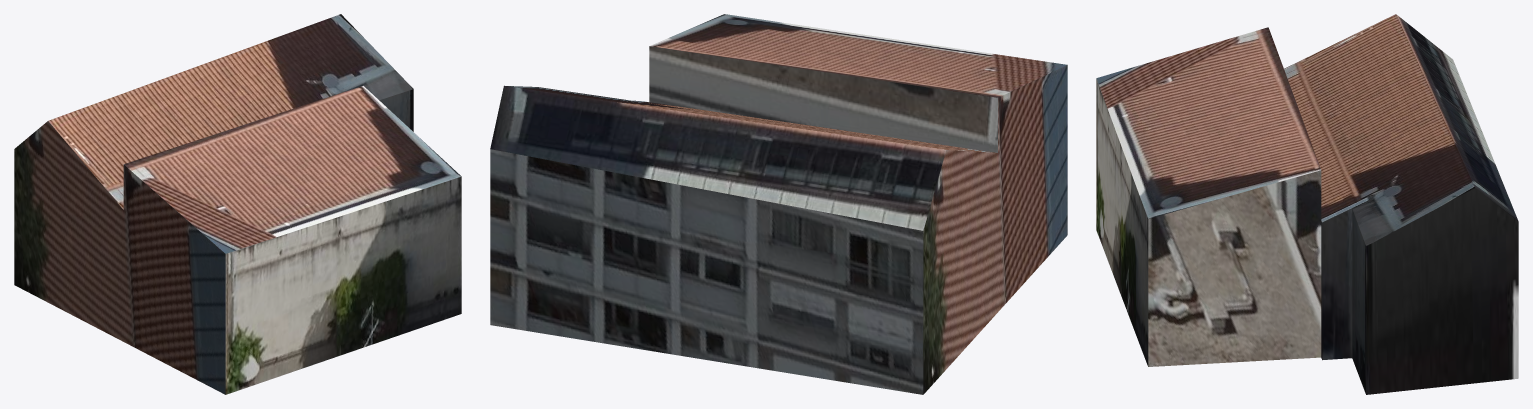
3 views of the same model, side by side, from view 1: azimuth 30°, elevation 25°; view 2: azimuth 150°, elevation 25°; view 3: azimuth 270°, elevation 25° (orthographic). The views are drawn at different scales.
Visible parts, largest first — view 1: Z_UP; view 2: Z_UP; view 3: Z_UP.
Boxes of the visible parts, x1,y1,x2,y2 form: Z_UP: (14,14,461,394); Z_UP: (490,14,1067,394); Z_UP: (1096,14,1518,394).
Bounding box in the file's own units: 17.8 × 8.61 × 16.81.
2 materials, 1 textured.
